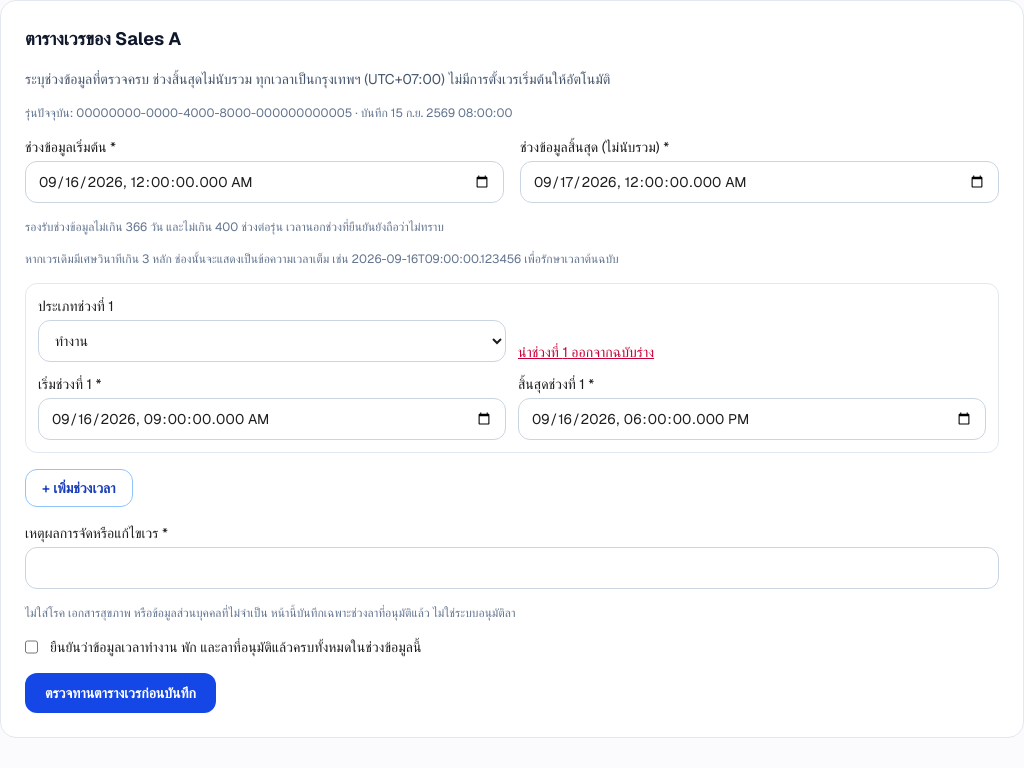
Admin work schedule review and publish › requires explicit confirmation after reviewing the complete replacement
Type "จัดเวรเดือนนี้" into the field labelled "เหตุผลการจัดหรือแก้ไขเวร *" at x=512, y=568, box [25,547,999,589]
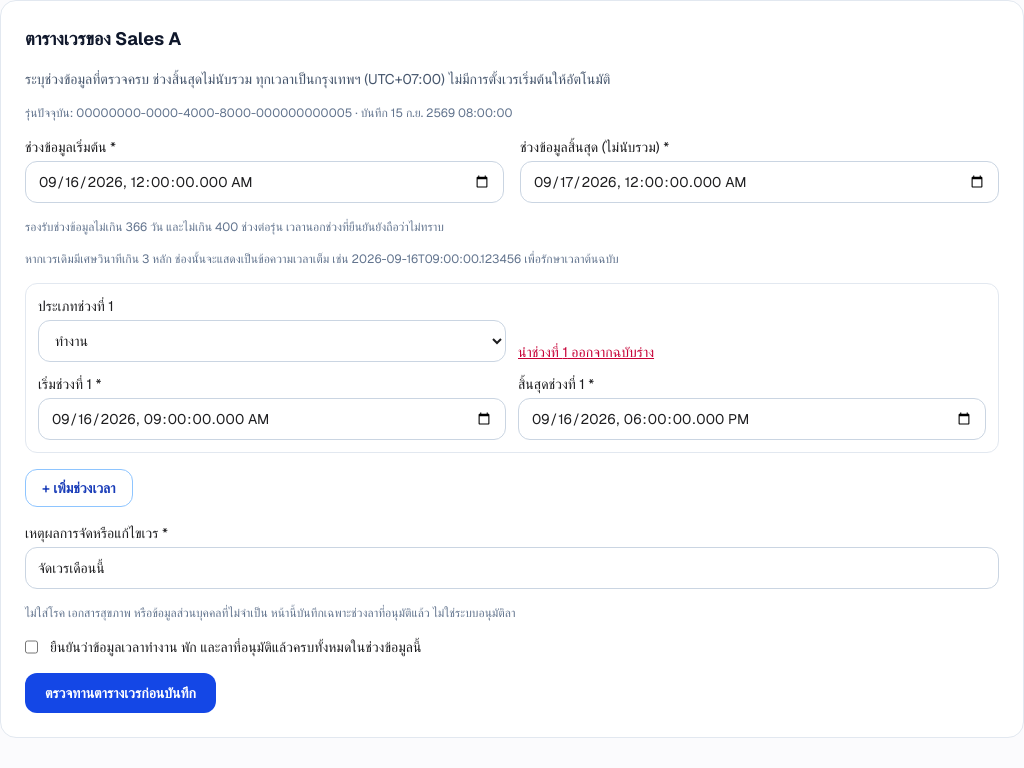
Click the checkbox at x=32, y=647, box [25,637,38,657]
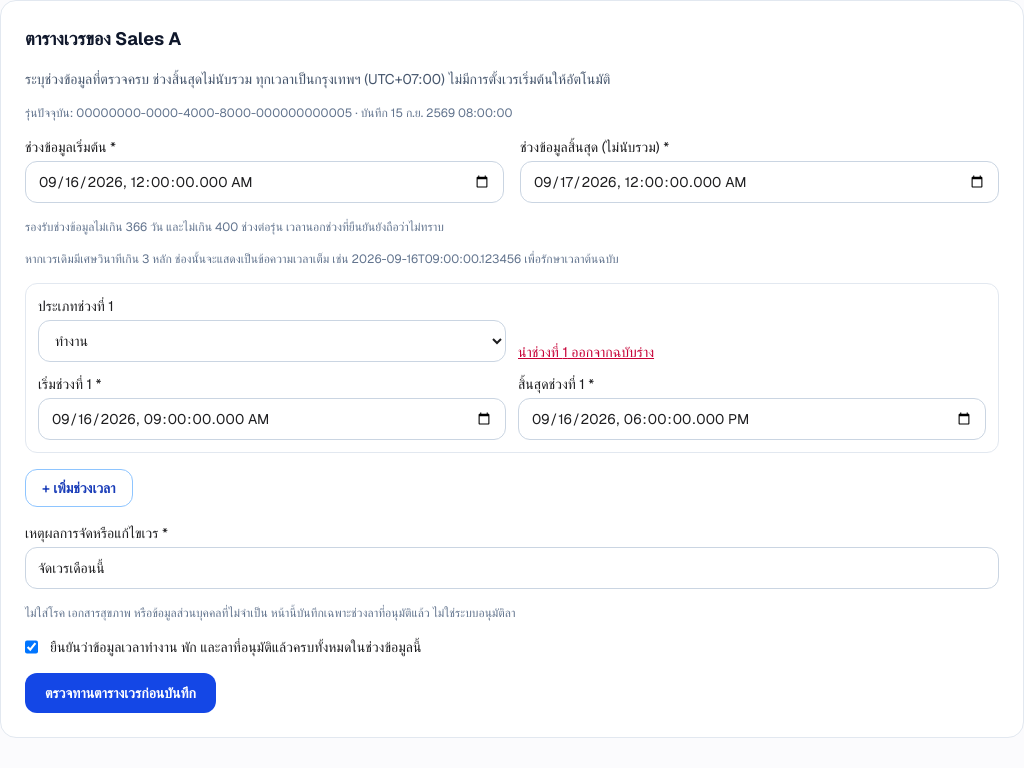
Submit the form named "จัดเวร Sales"
(page scrolled)
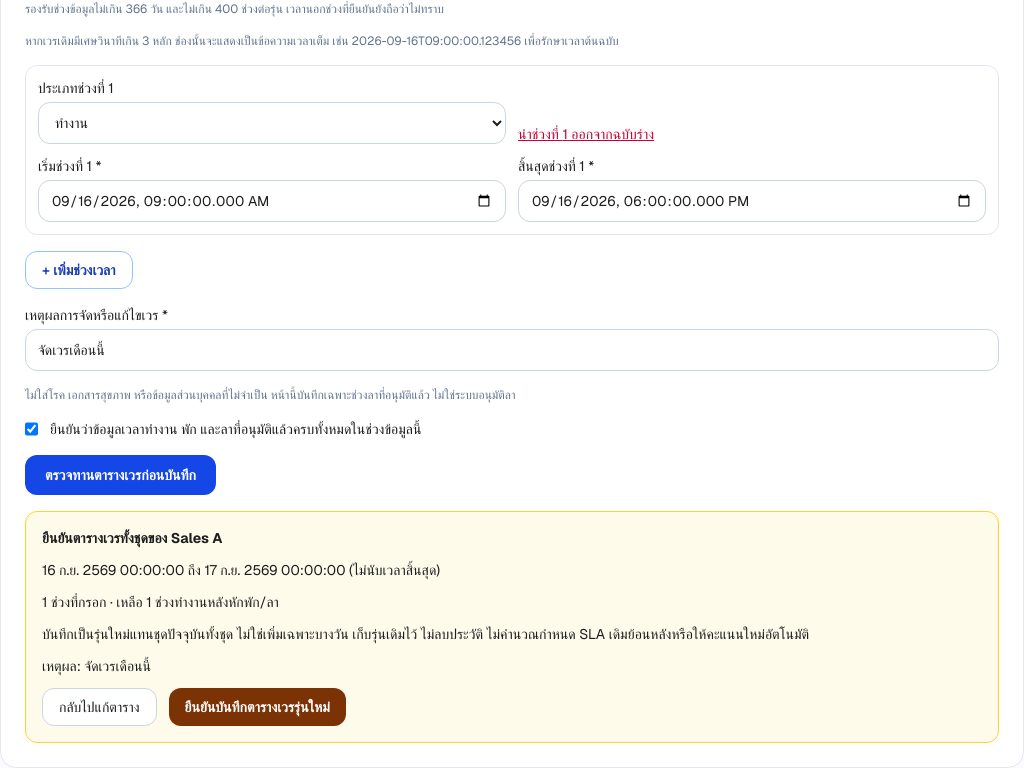
Expected: the element named "ตรวจทานตารางเวร" shows "ไม่ใช่เพิ่มเฉพาะบางวัน", [42,625,809,643]
